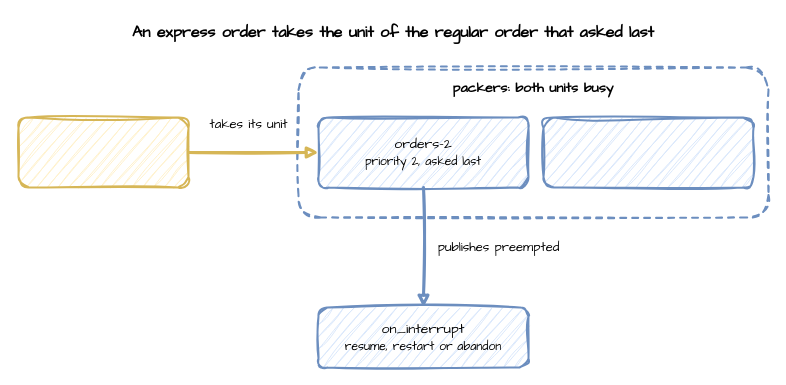
Image size: 786x385. Some labels were removed from this diagram. The centre of each missing label's shape, as x and y in pixels:
"express-1 priority 1, a new request" belongs at pixel 103 152.
"orders-1 priority 2, asked first, keeps its unit" belongs at pixel 648 152.
